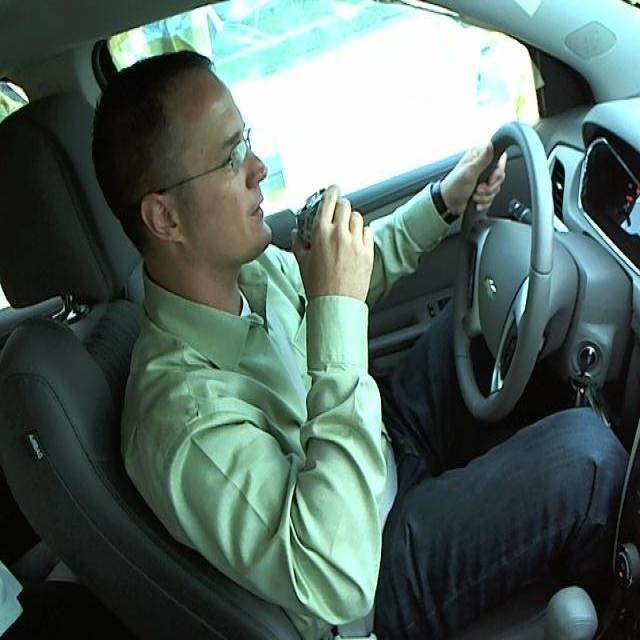Seatbelt: (301, 184, 361, 281)
